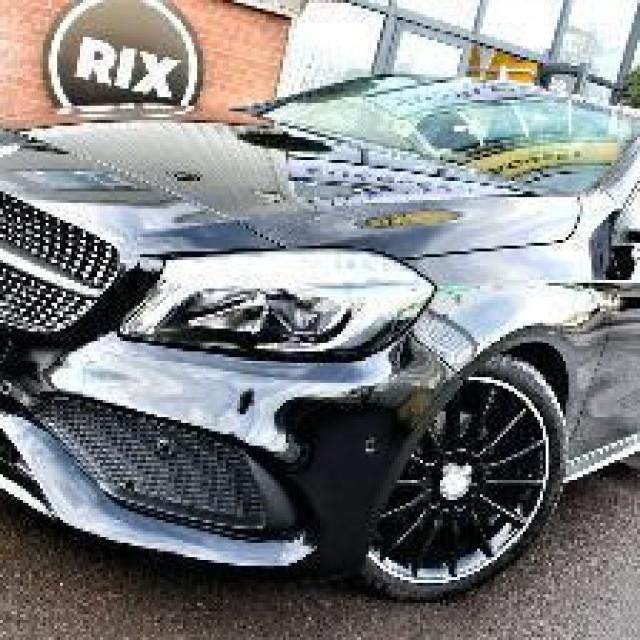damaged: (374, 332, 452, 397)
